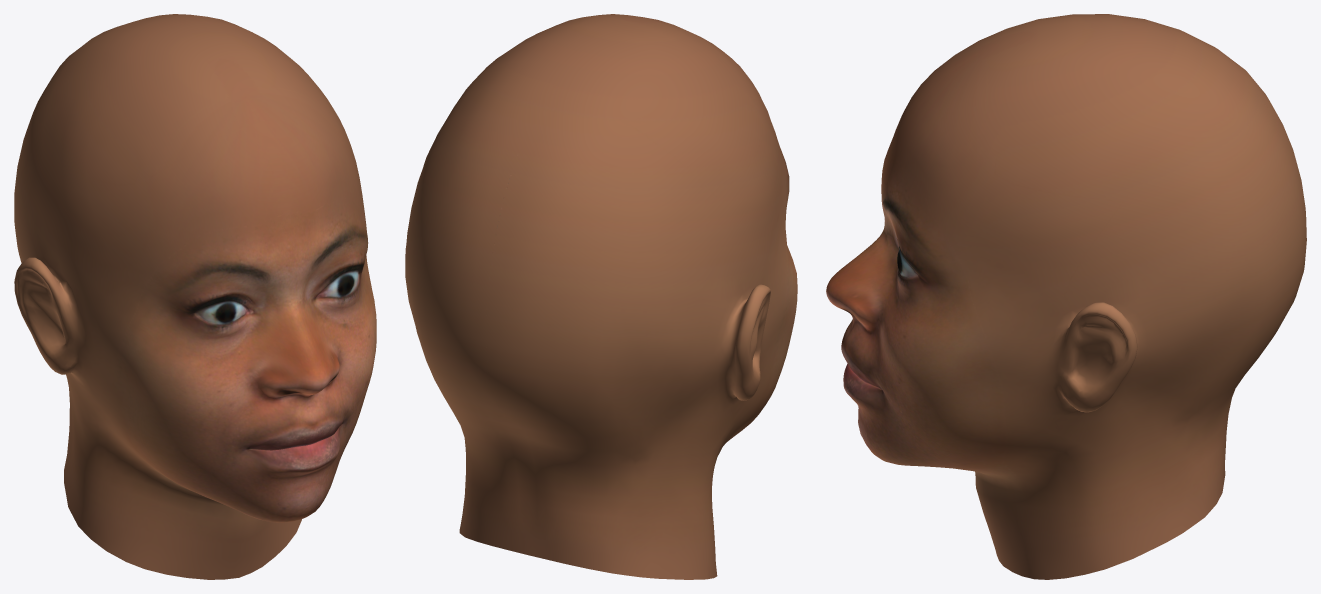
The model's file is v332_obj_ModifierBrowInLeft.obj.
The picture shows the model from 3 angles, left to right: view 1: azimuth 30°, elevation 25°; view 2: azimuth 150°, elevation 25°; view 3: azimuth 270°, elevation 25°; orthographic projection. The views are drawn at different scales.
Visible parts, largest first — view 1: HeadHires; view 2: HeadHires; view 3: HeadHires.
Boxes of the visible parts, x1=… form: HeadHires: x1=14, y1=14, x2=376, y2=579; HeadHires: x1=405, y1=14, x2=797, y2=579; HeadHires: x1=826, y1=14, x2=1306, y2=579.
Bounding box in the file's own units: 187 × 282 × 233.
